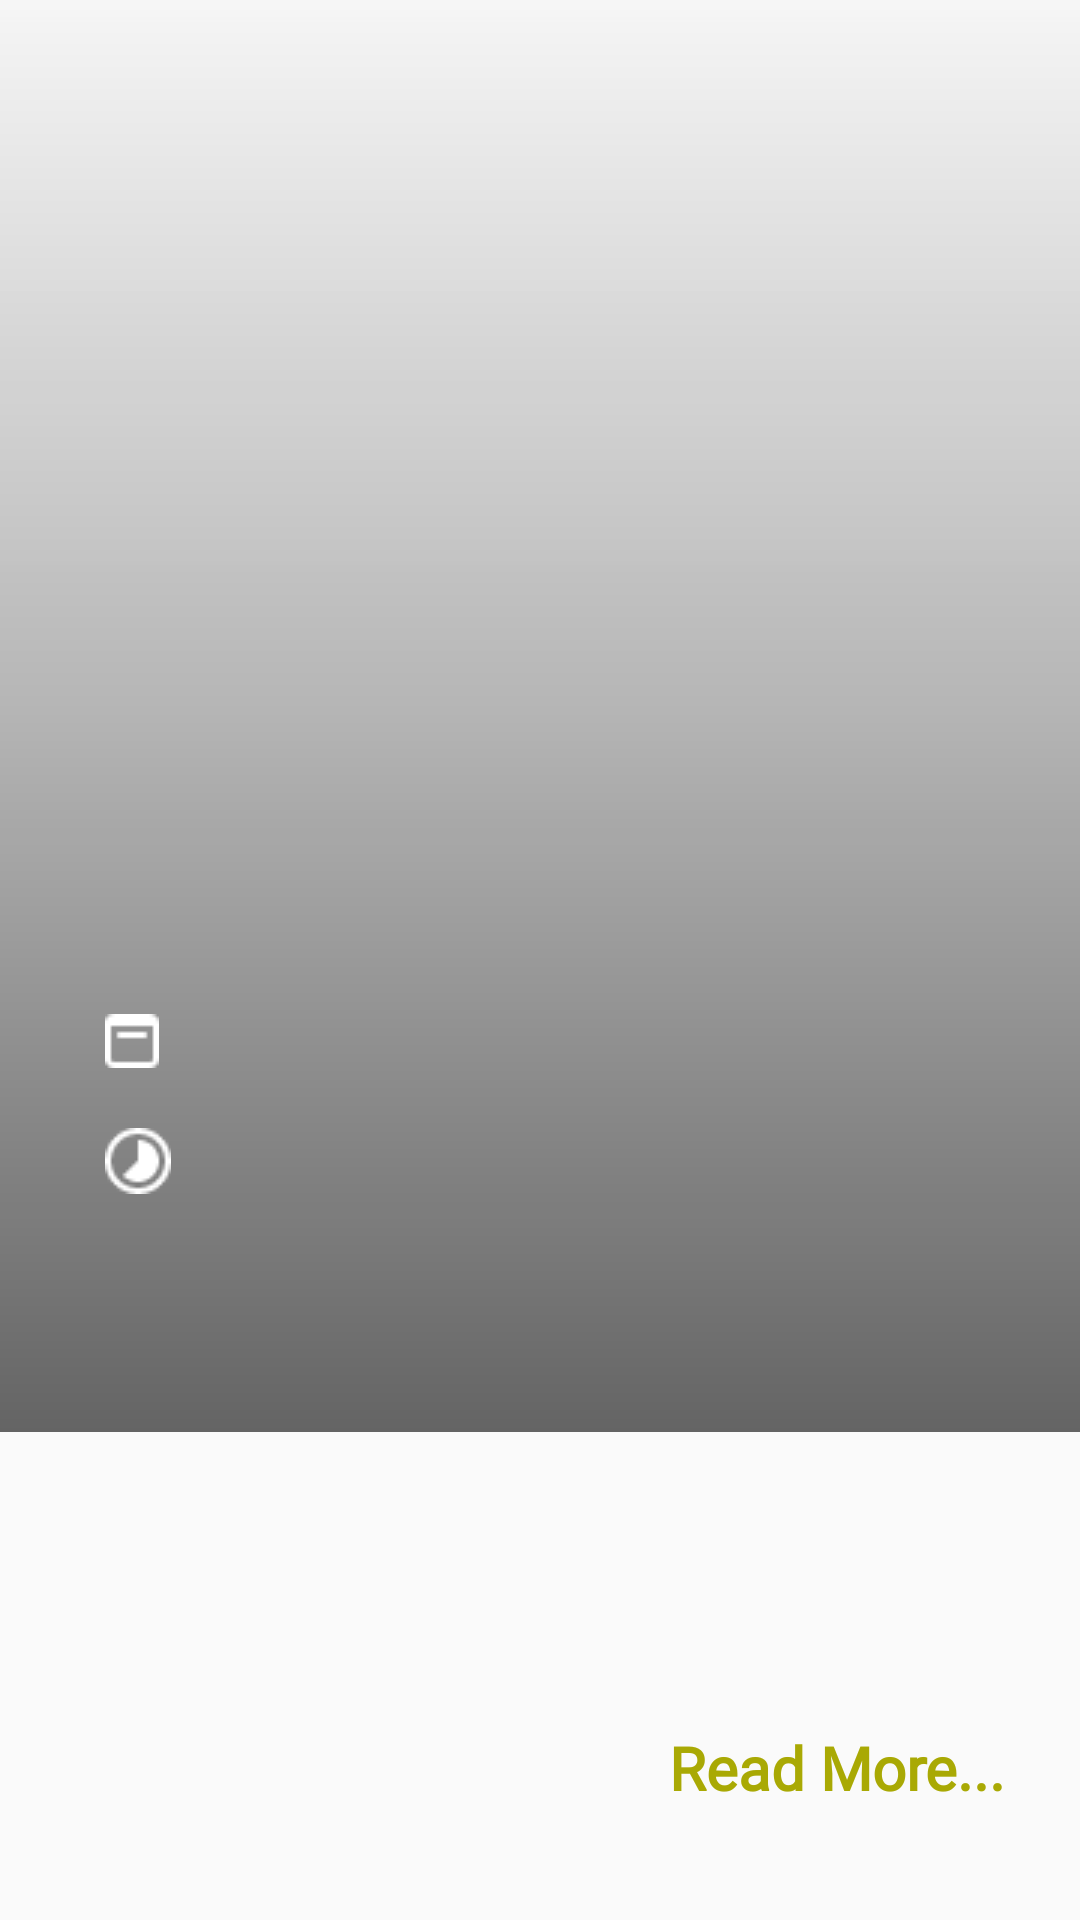

Icons on this 1080px×1920px Android screen, each with the point to tap as (x=x, y=y):
calendar: (x=132, y=1041)
time: (x=138, y=1161)
